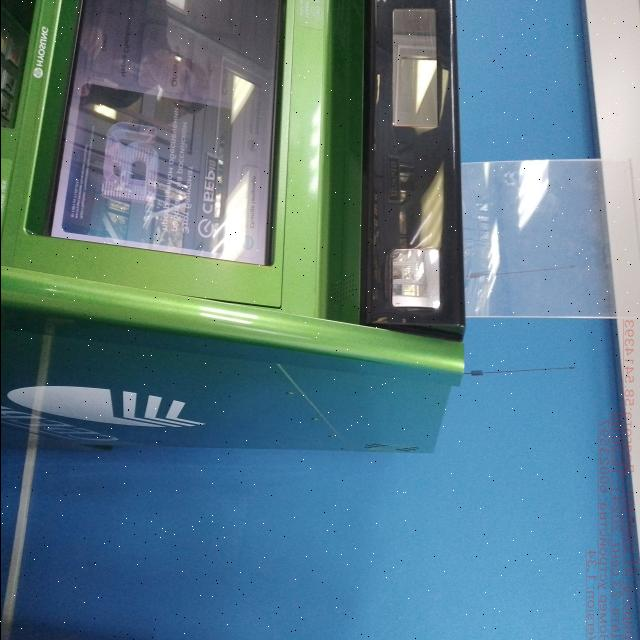bank: (0, 0, 467, 457)
